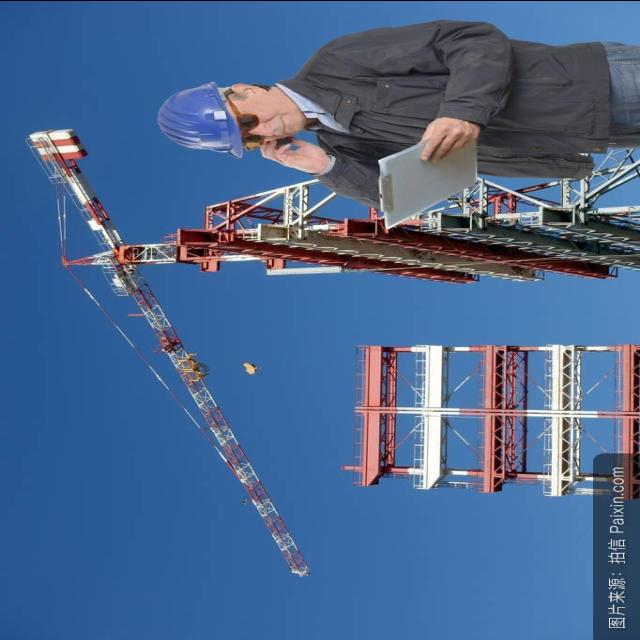helmet: (162, 72, 242, 162)
